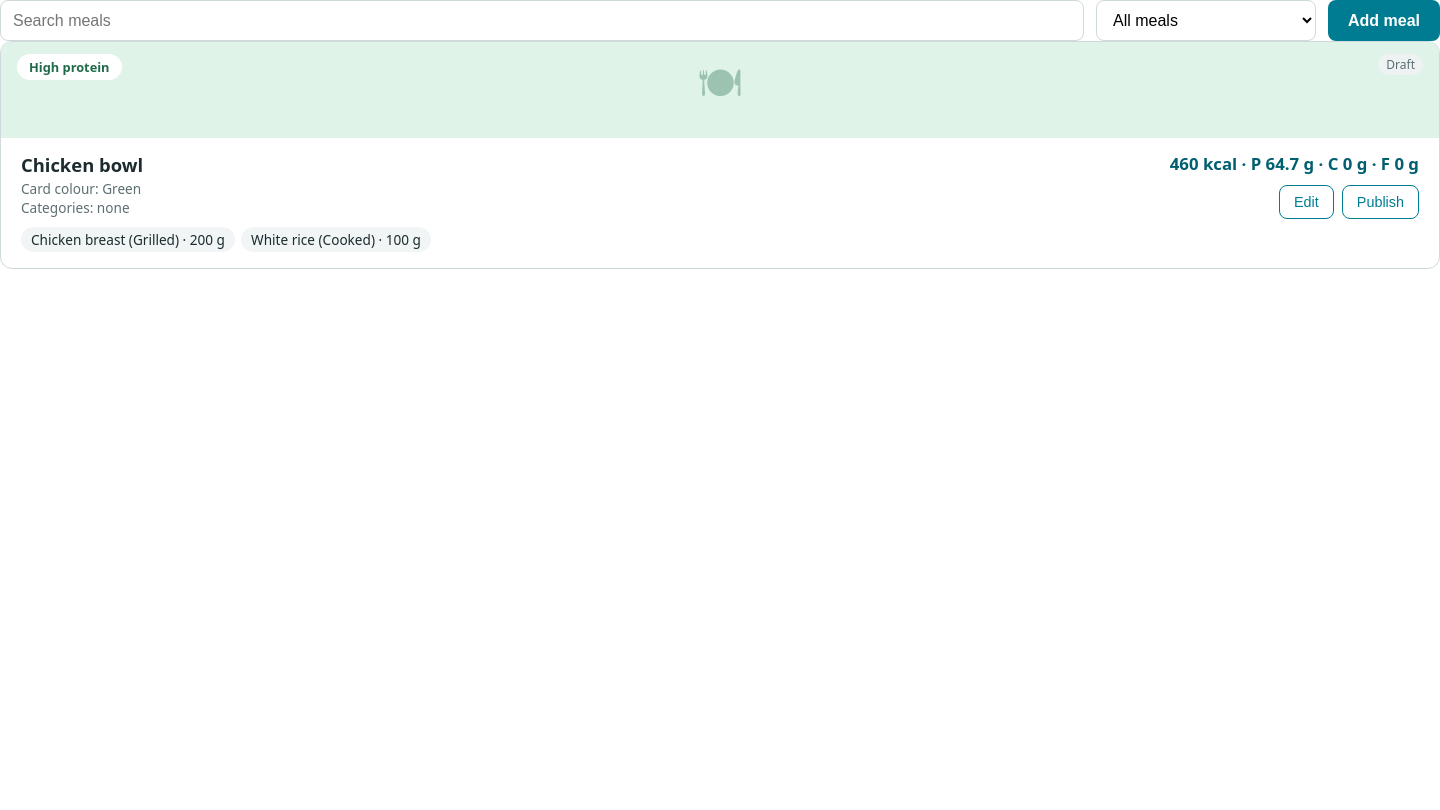
Scenario: MealEditor › blocks saving with no foods and explains why
Click the button "Add meal" at (1384, 20), box x1=1328 y1=0 x2=1439 y2=41
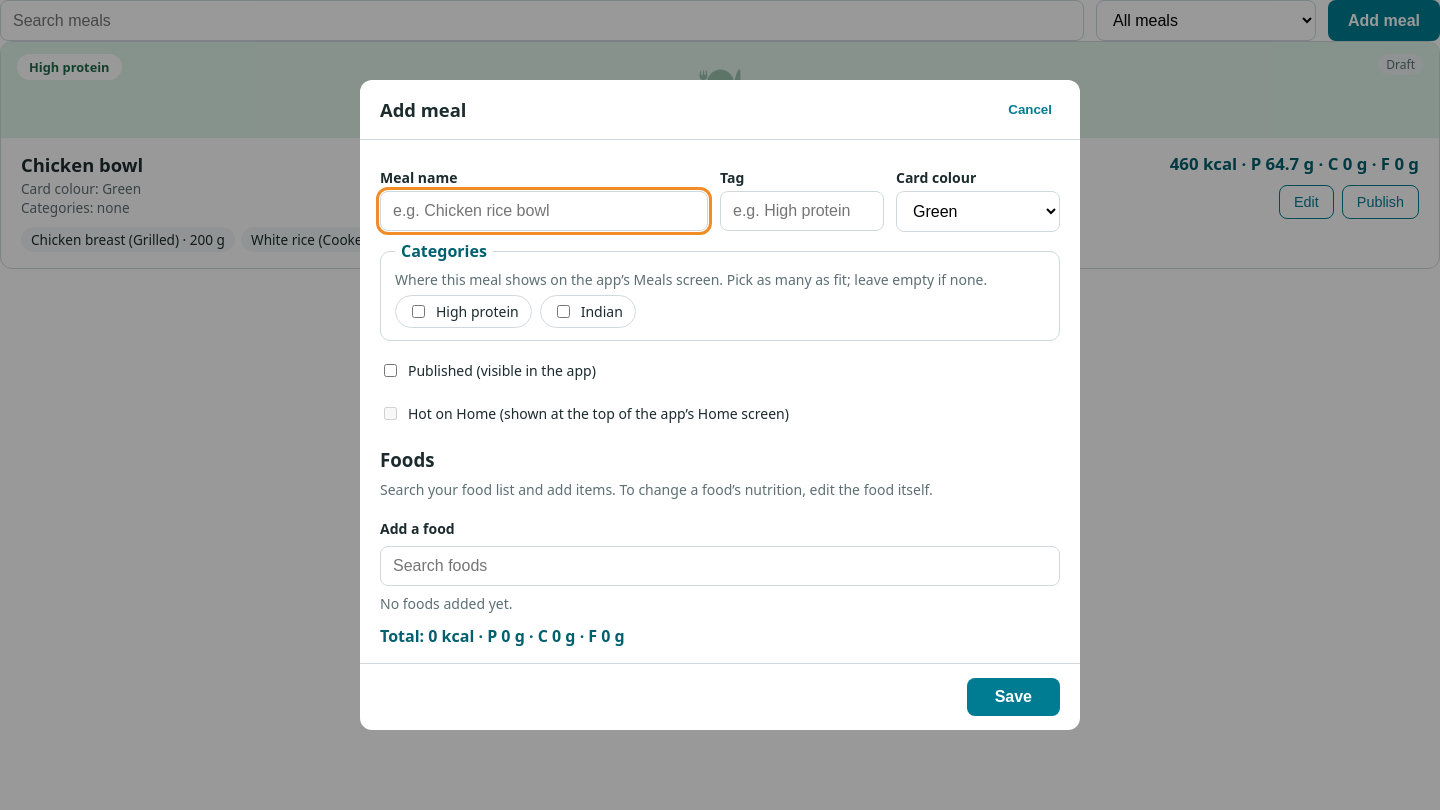
Type "Empty" into the field labelled "Meal name" at (544, 211), box x1=380 y1=191 x2=708 y2=231
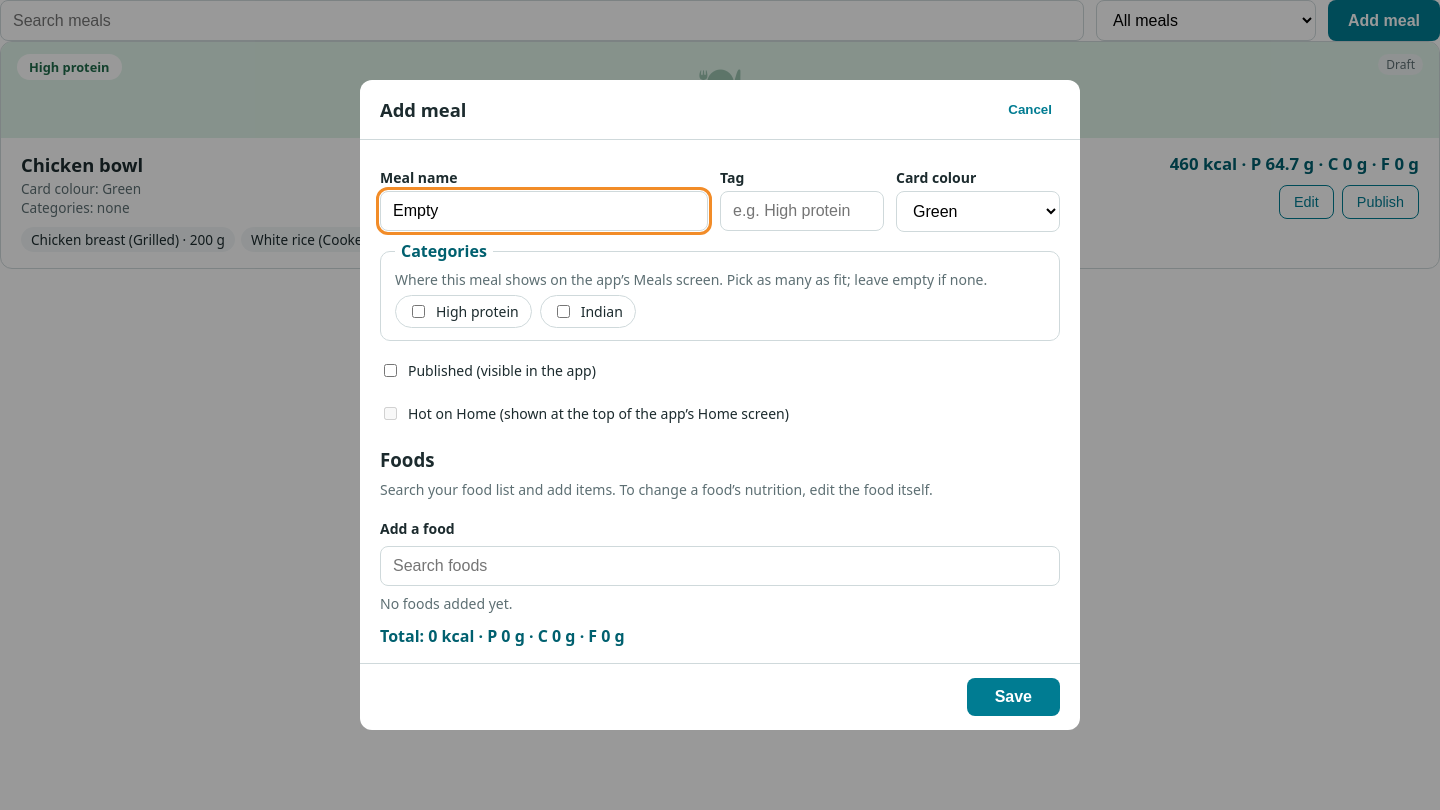
Click the button "Save" at (1013, 697), box x1=967 y1=678 x2=1060 y2=716
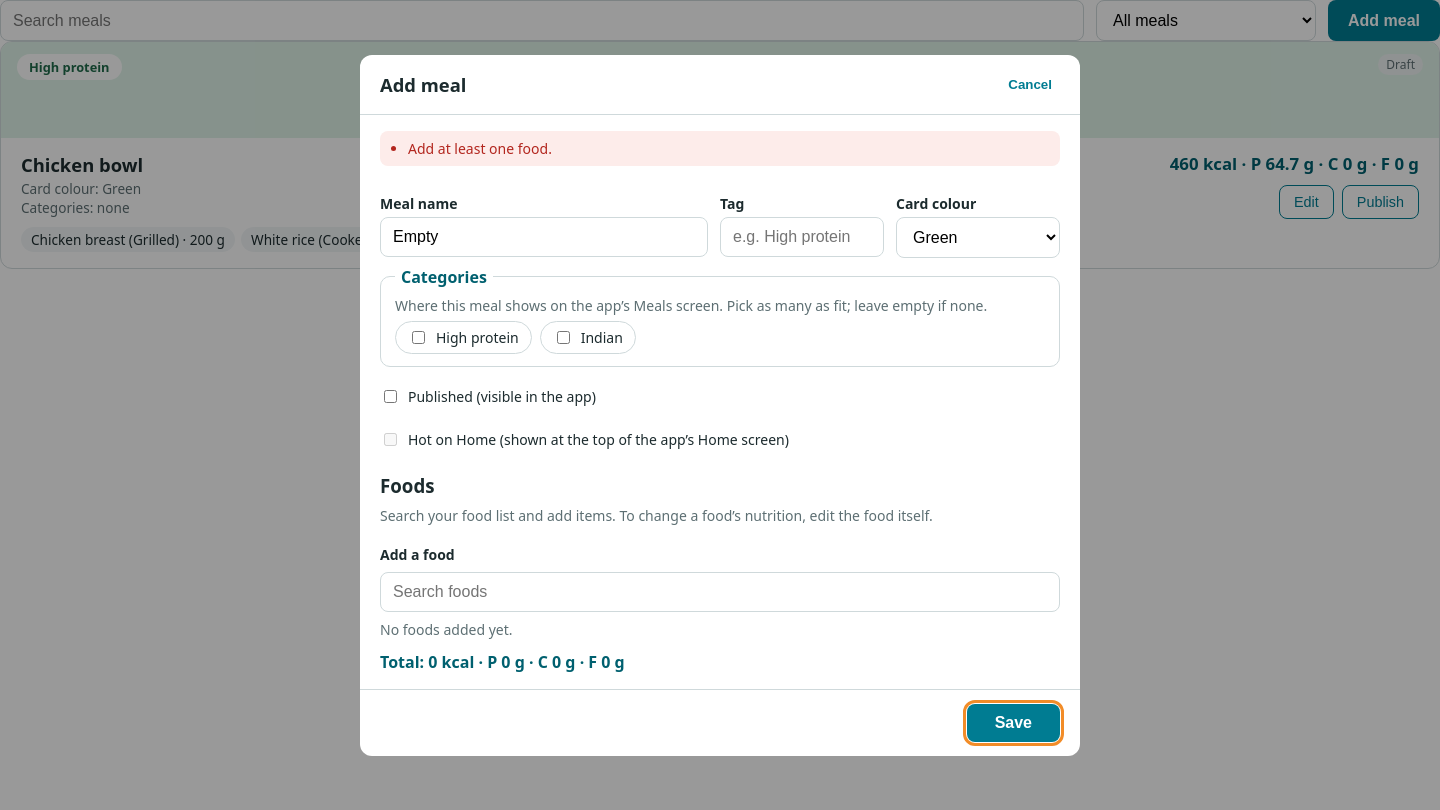
Expected: the message reads "Add at least one food.", x1=408 y1=138 x2=552 y2=158
